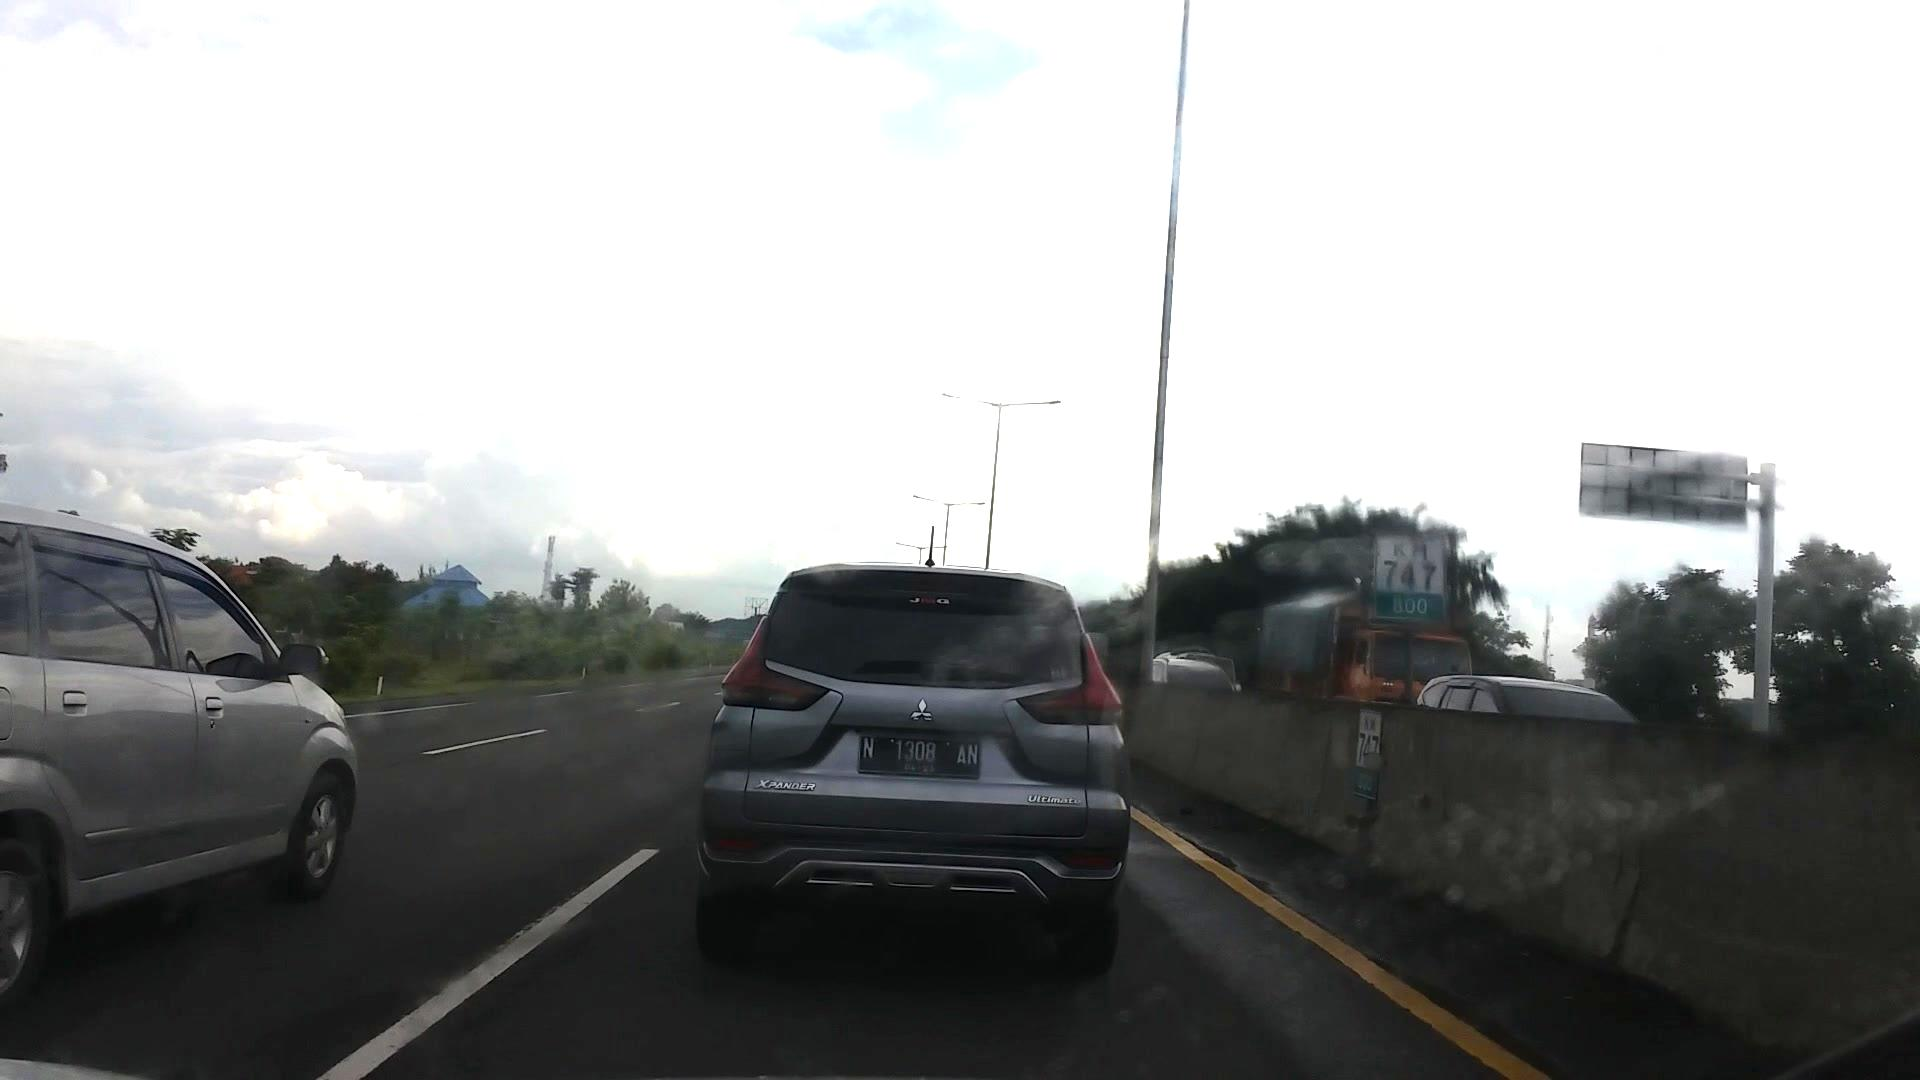plate_positive: (858, 733, 982, 781)
